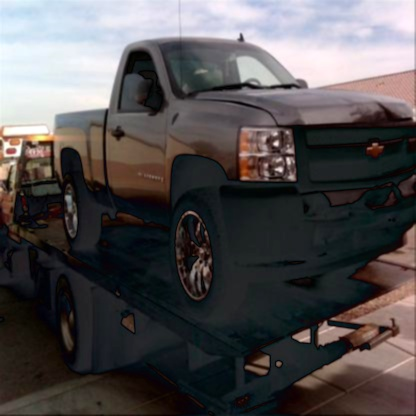Vehicle: (51, 31, 415, 319)
